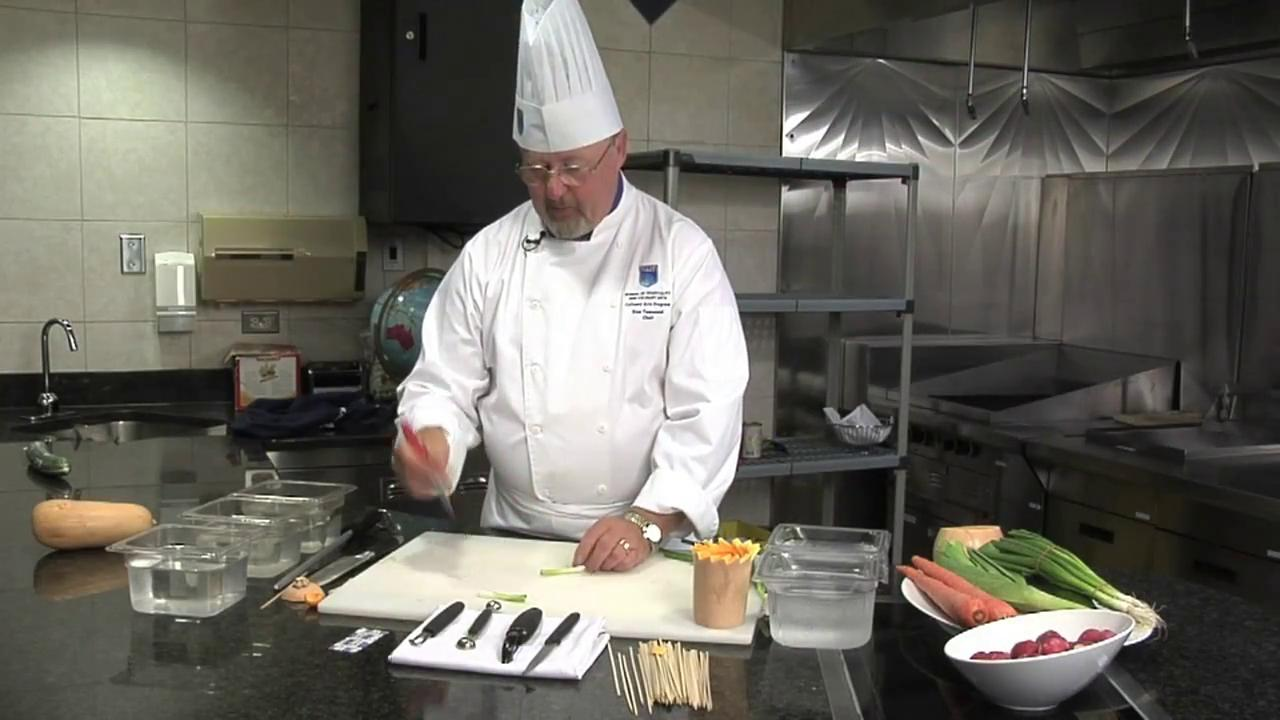victim: (374, 0, 754, 572)
